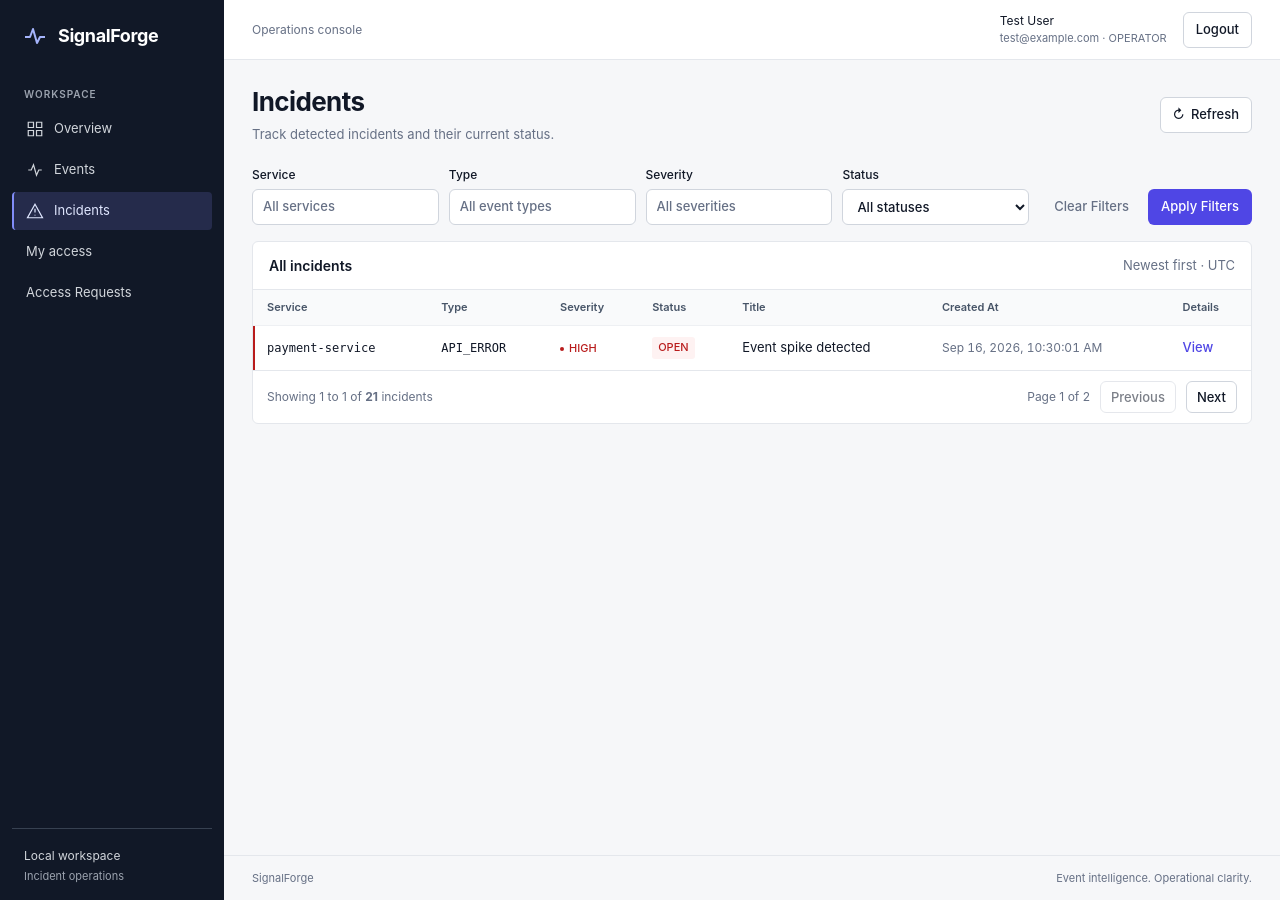
Incidents › sends the selected status, paginates on the server, and handles empty results
The image size is (1280, 900).
Expected: the text "Page 1 of 2" is shown, [1027,388,1090,406]
Click the button "Next" at (1211, 397), box [1186,381,1237,413]
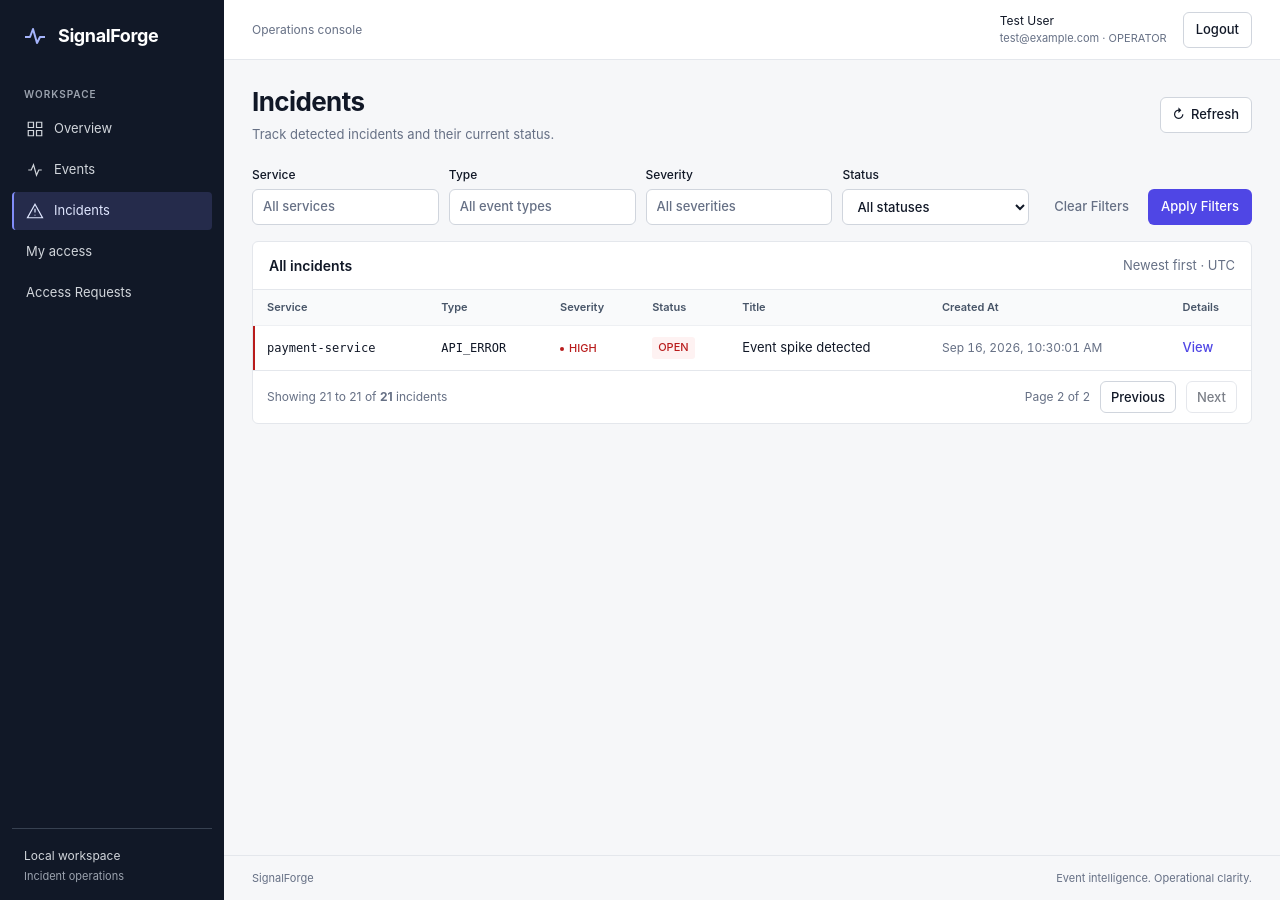
Result: the text "Page 2 of 2" is shown at [1025,388,1090,406]
Select "Resolved" in the dropdown labelled "Status" at (936, 207), box [842,189,1029,225]
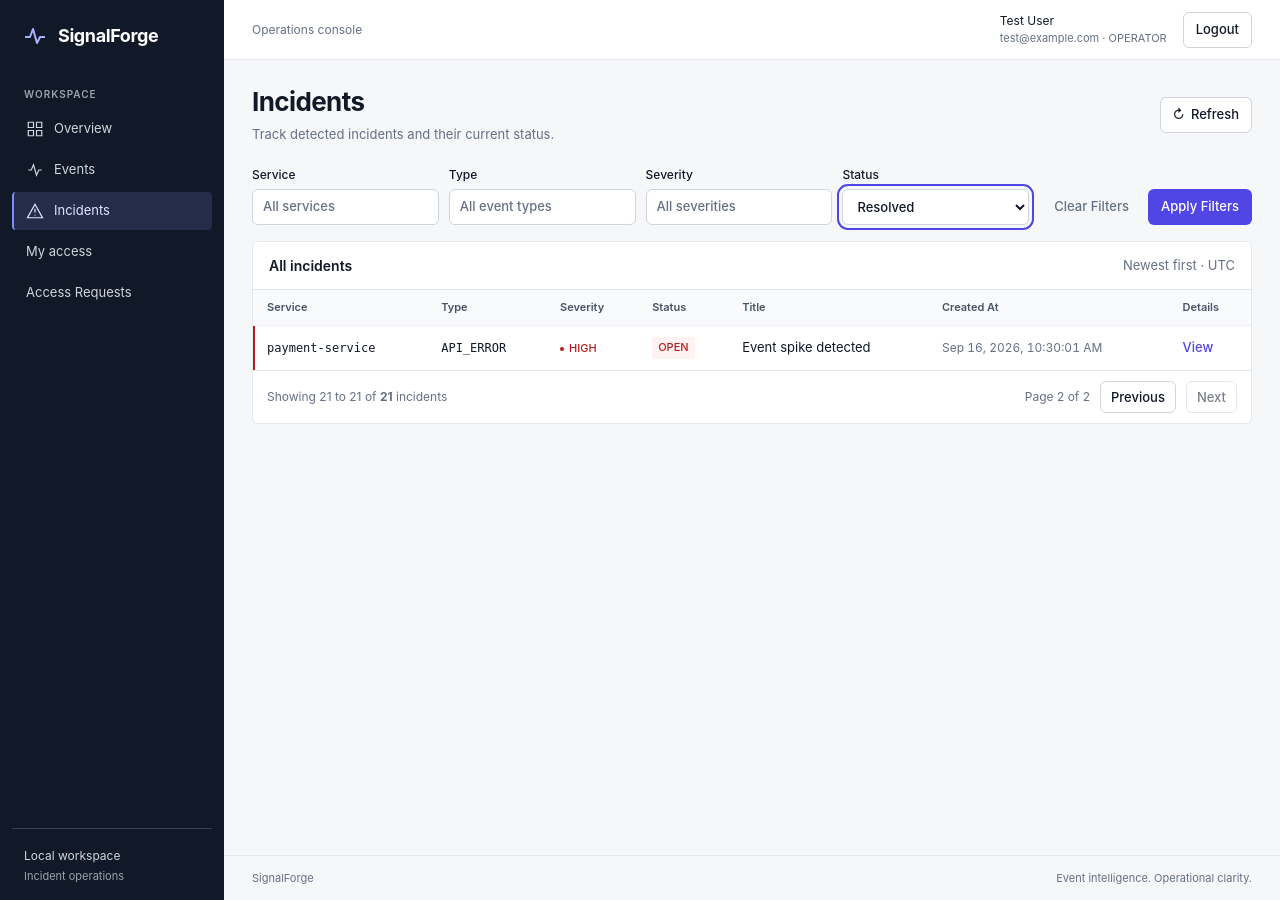
Click the button "Apply Filters" at (1200, 207), box [1148,189,1252,225]
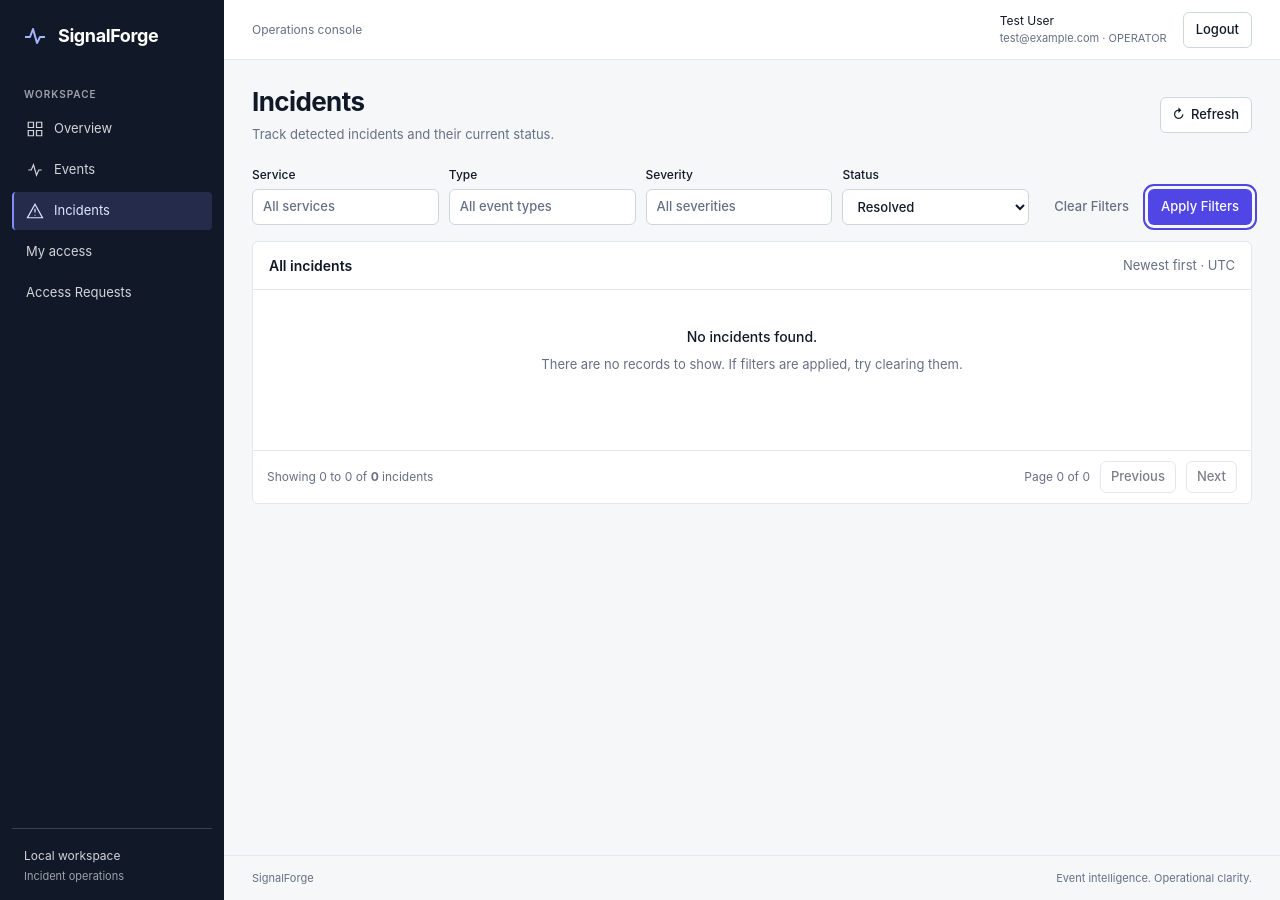
Result: the text "No incidents found." is shown at [687,328,817,345]
